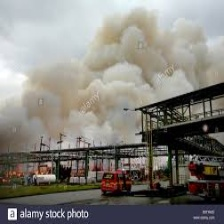smoke: (1, 13, 139, 143), (144, 5, 222, 86)
